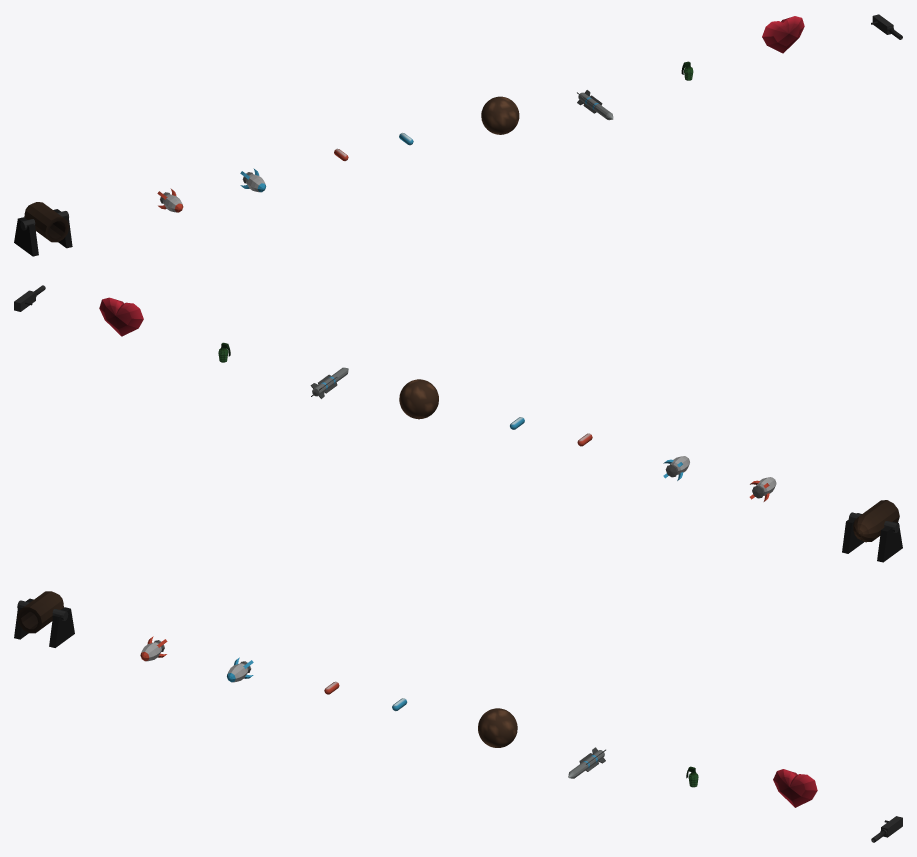
Rendered from PedroHenriqueDias_882959-entrega1.fbx.
3 renders of one model, top to bottom at view 1: azimuth 30°, elevation 25°; view 2: azimuth 150°, elevation 25°; view 3: azimuth 330°, elevation 25°, orthographic. The views are drawn at different scales.
Parts seen in each view (by area): view 1: CanhãoGrande, BalaDeCanhaoVelha, CoracaoBrilhante; view 2: CanhãoGrande, BalaDeCanhaoVelha, CoracaoBrilhante; view 3: CanhãoGrande, BalaDeCanhaoVelha, CoracaoBrilhante, MissilTeleguiado.
Boxes of the visible parts, left/top/right/bottom form: CanhãoGrande: left=14, top=202, right=72, bottom=256; BalaDeCanhaoVelha: left=481, top=96, right=519, bottom=134; CoracaoBrilhante: left=762, top=16, right=804, bottom=53; CanhãoGrande: left=842, top=500, right=902, bottom=562; BalaDeCanhaoVelha: left=399, top=379, right=438, bottom=419; CoracaoBrilhante: left=99, top=297, right=143, bottom=336; CanhãoGrande: left=14, top=591, right=74, bottom=647; BalaDeCanhaoVelha: left=478, top=708, right=517, bottom=747; CoracaoBrilhante: left=773, top=769, right=817, bottom=807; MissilTeleguiado: left=568, top=747, right=605, bottom=778.
Size of the model in its own units: 7710 by 473 by 732.
